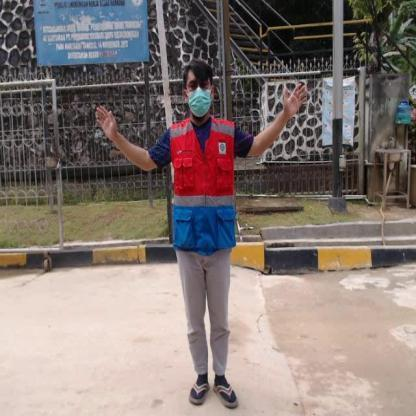mask: (187, 89, 213, 116)
